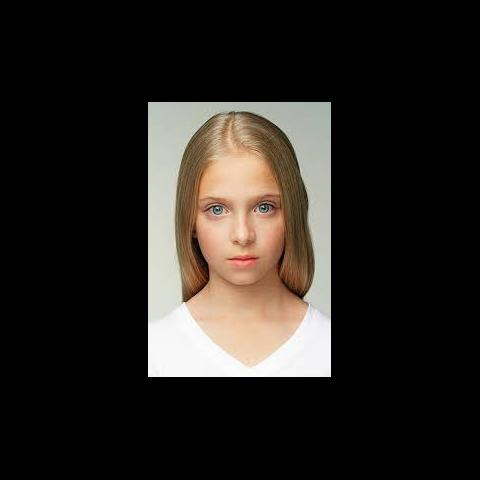opened: (194, 192, 286, 224)
